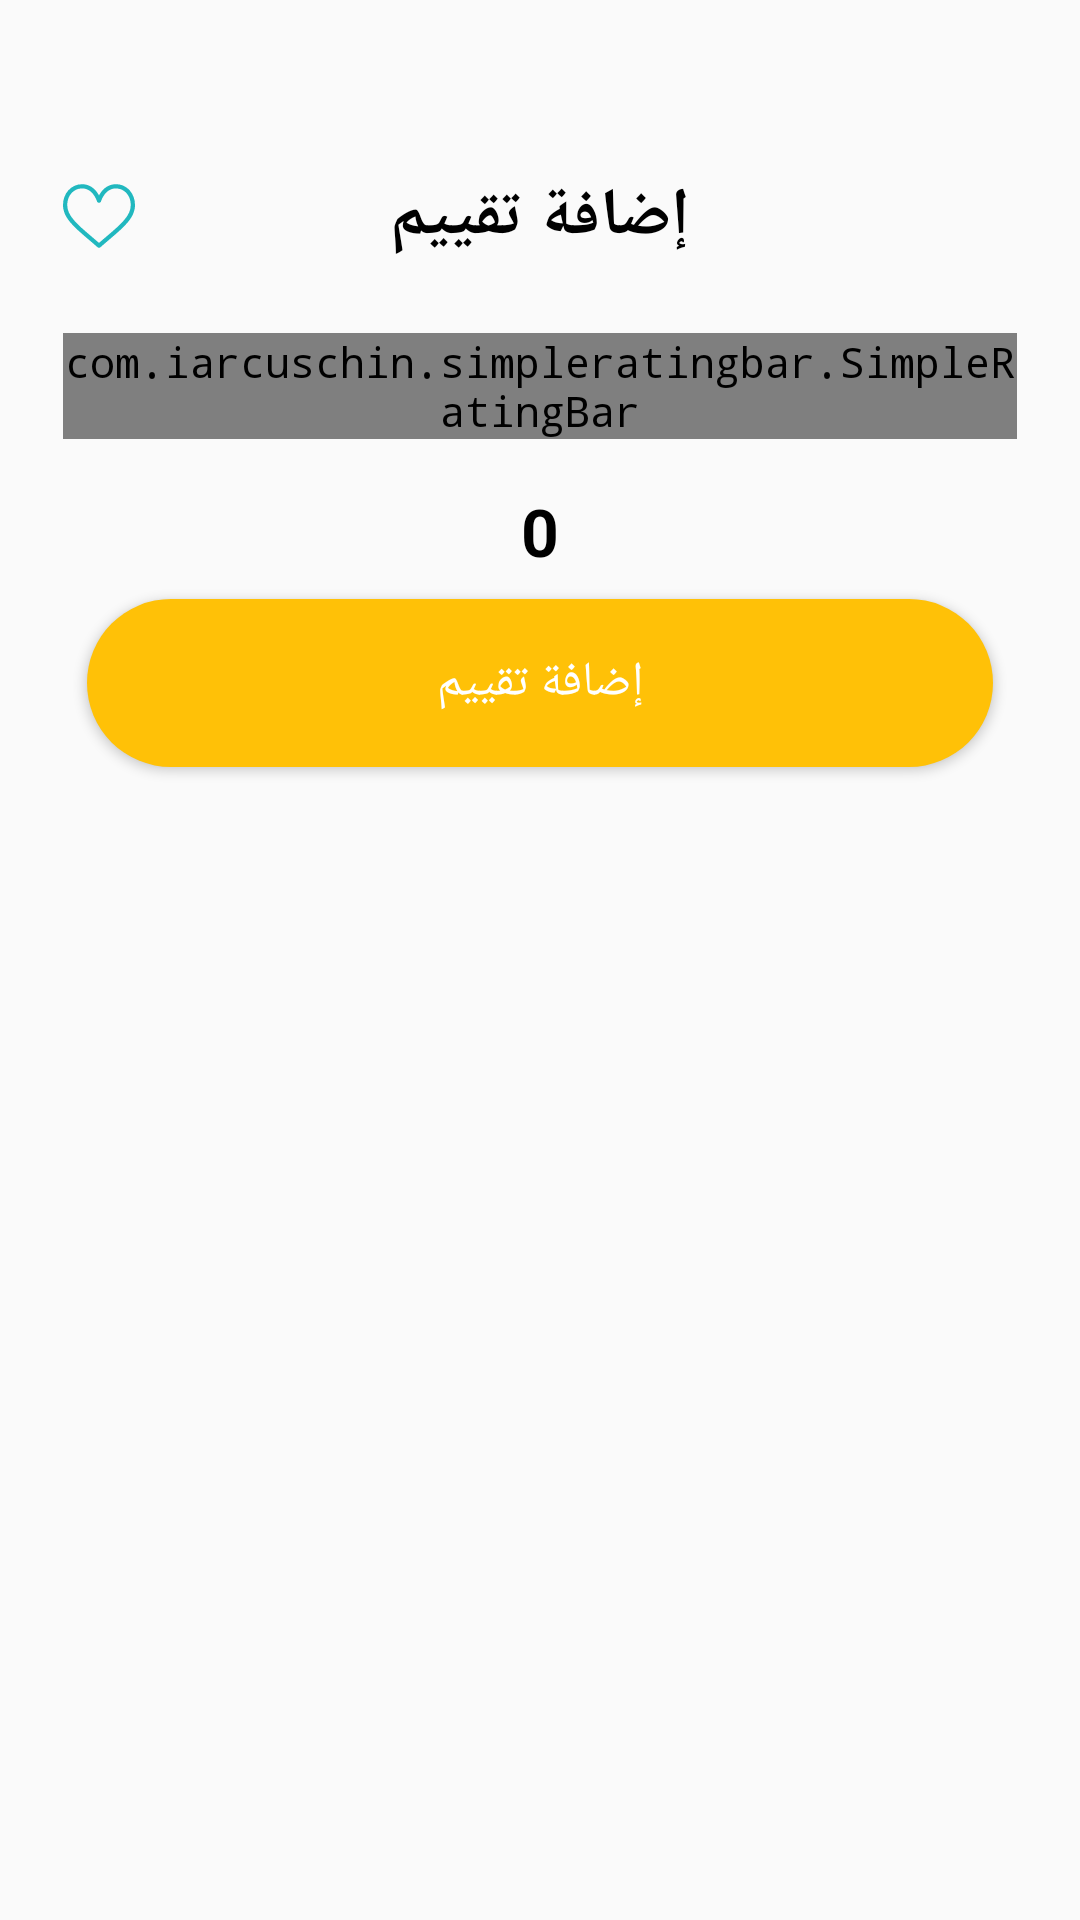

Where to tap for icons on this 1080w x 1920h app screen, as [x,y]:
empty heart: [99,216]
